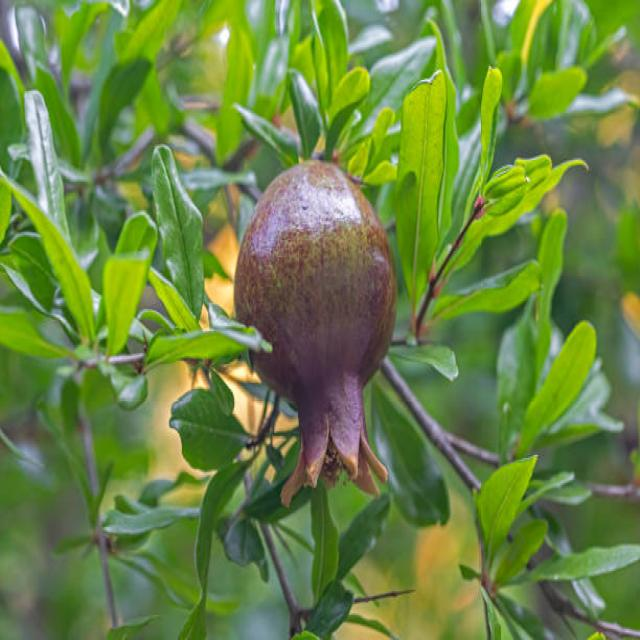Unripe: (234, 156, 396, 503)
